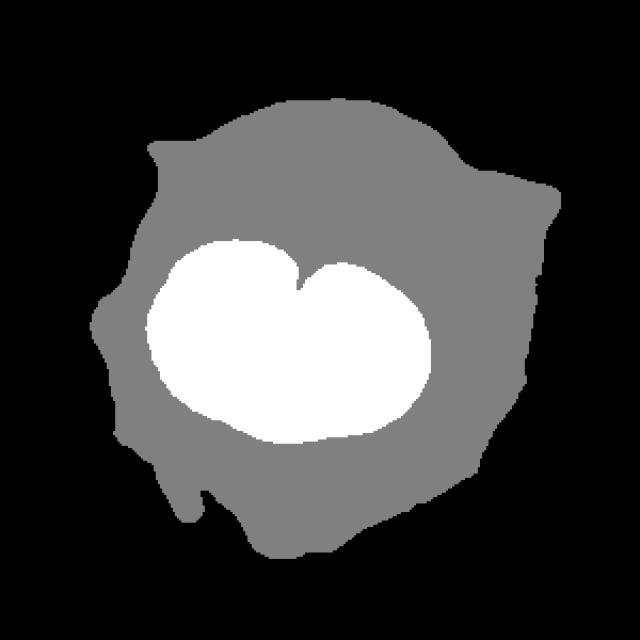WBC: (85, 81, 570, 563)
